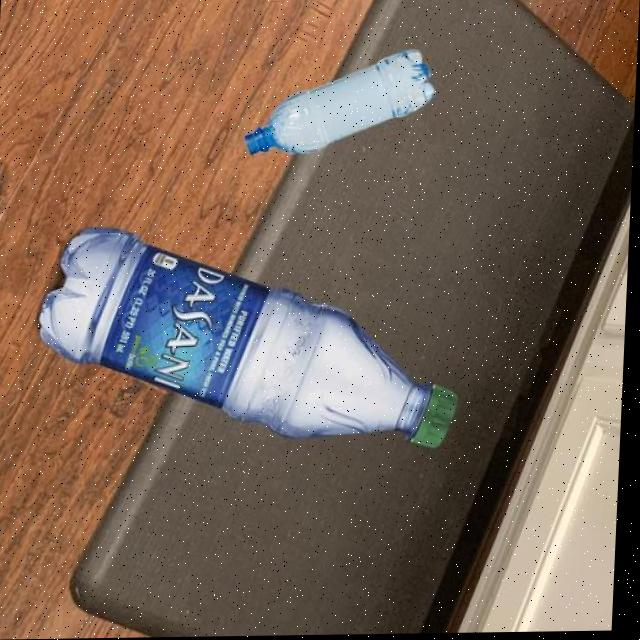bottle: (37, 221, 470, 454), (244, 47, 439, 157)
